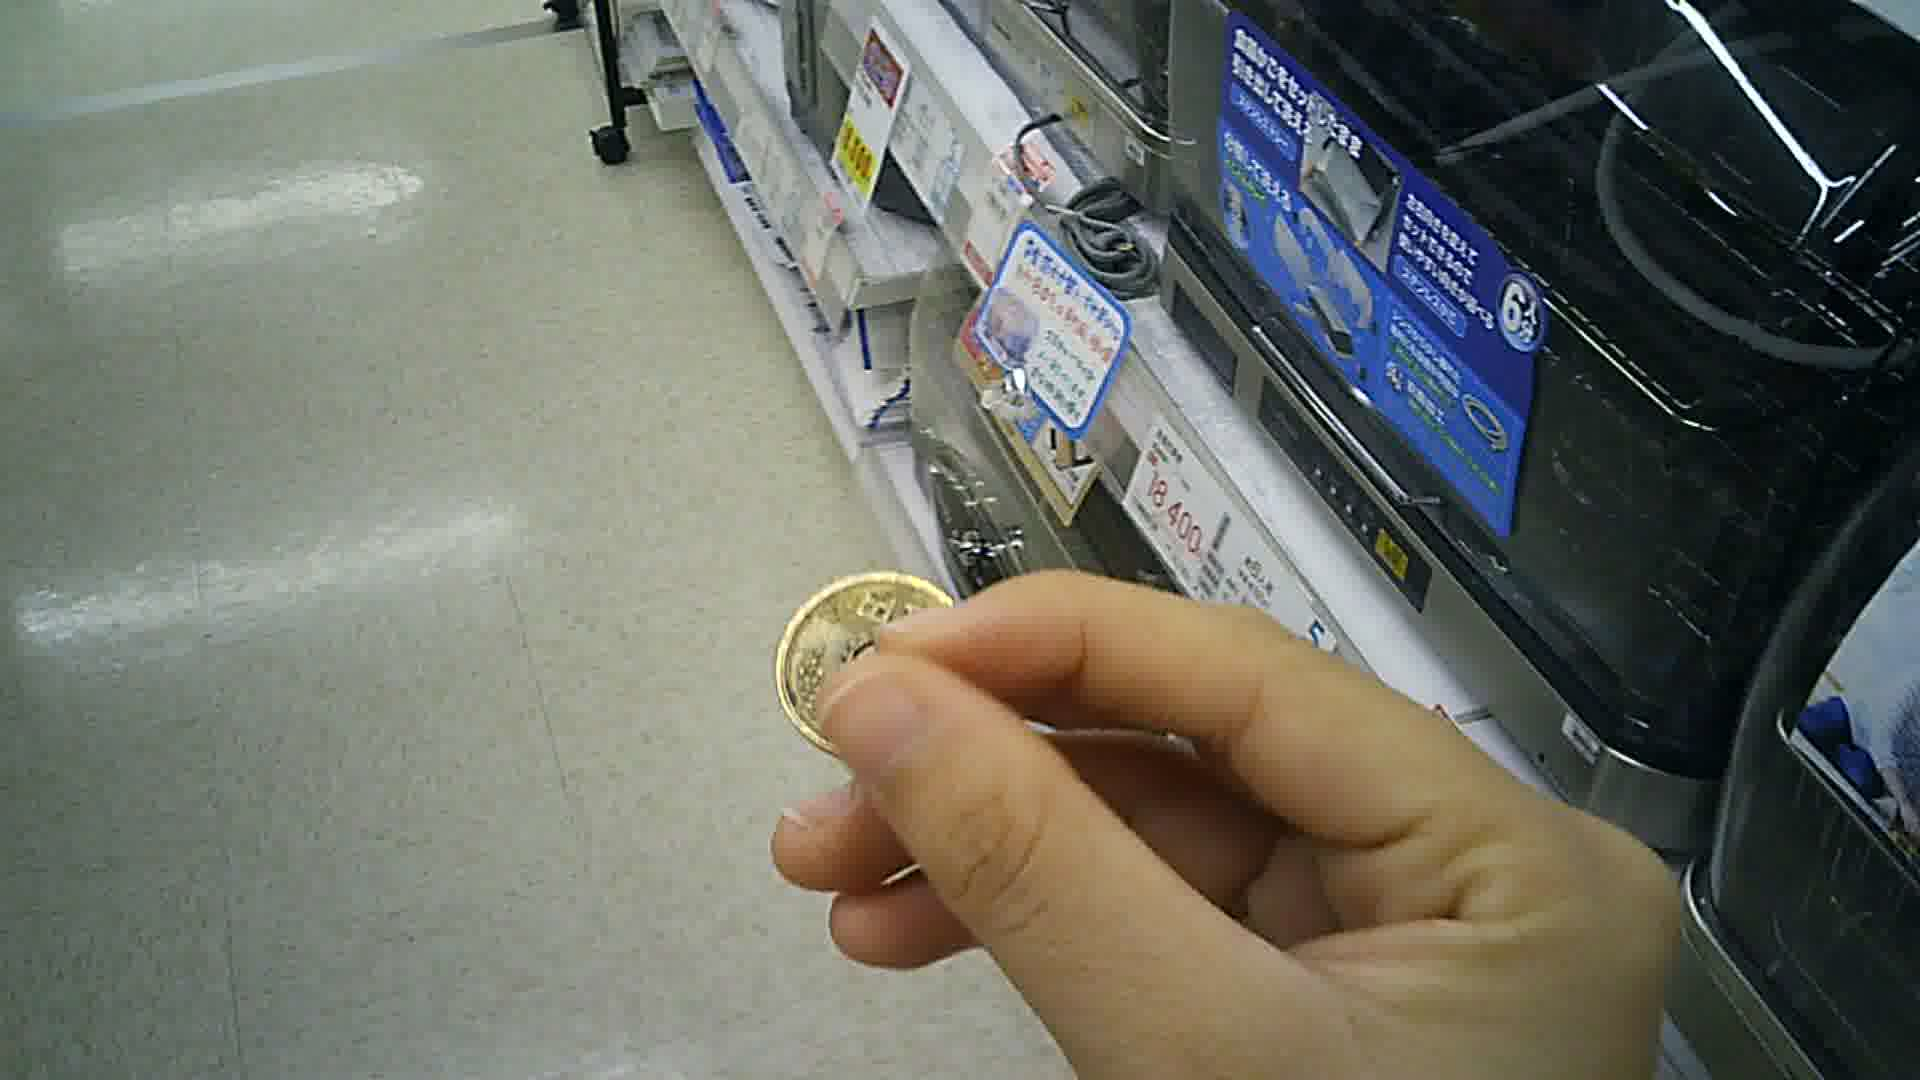5 Yen: (773, 562, 978, 752)
